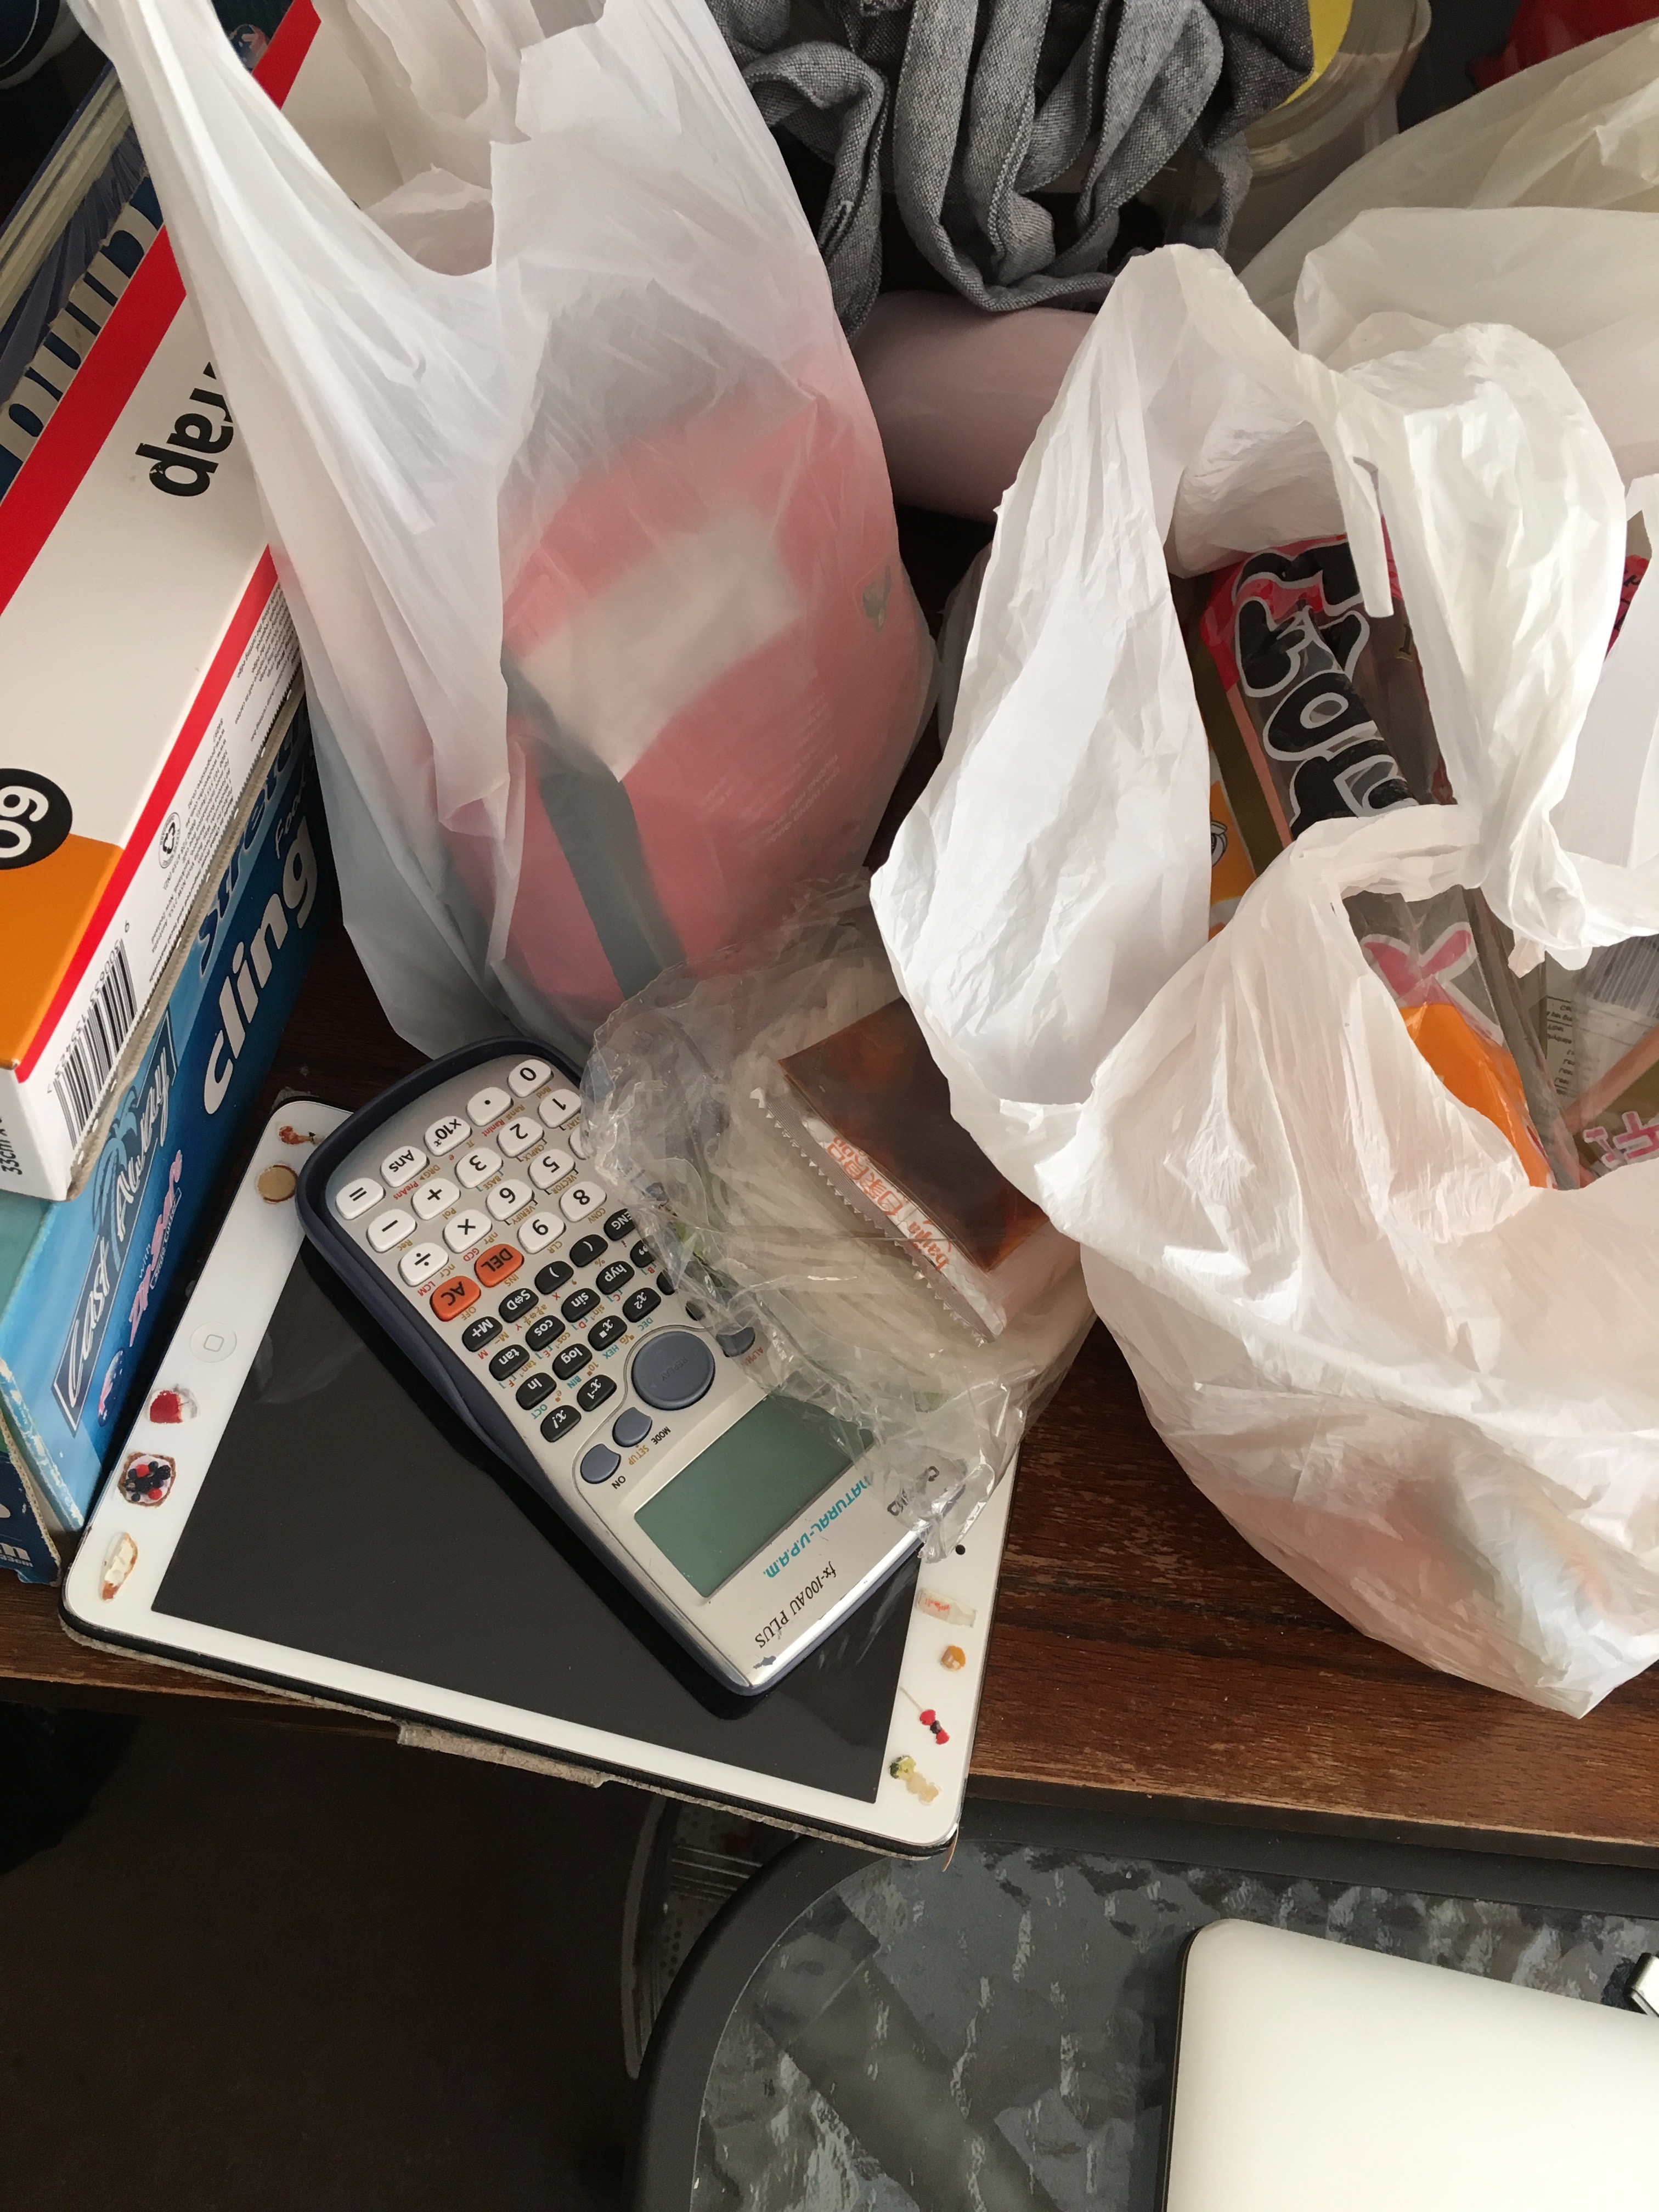Calculator: (289, 1022, 988, 1705)
